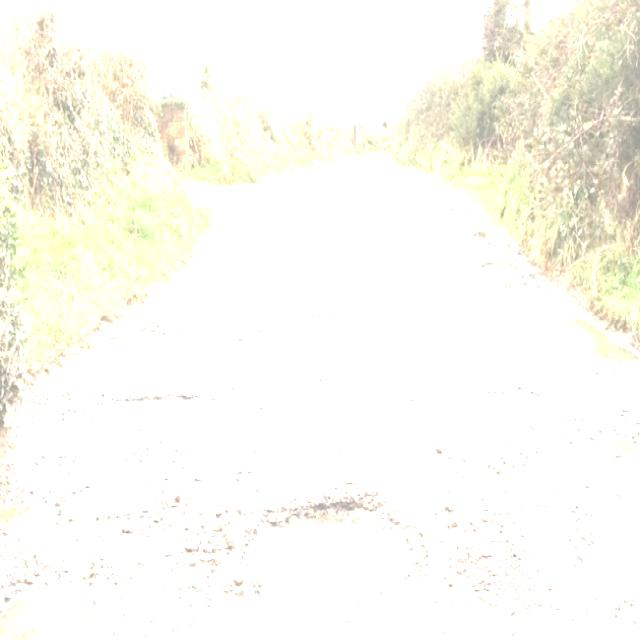Pothole: (22, 379, 444, 619)
